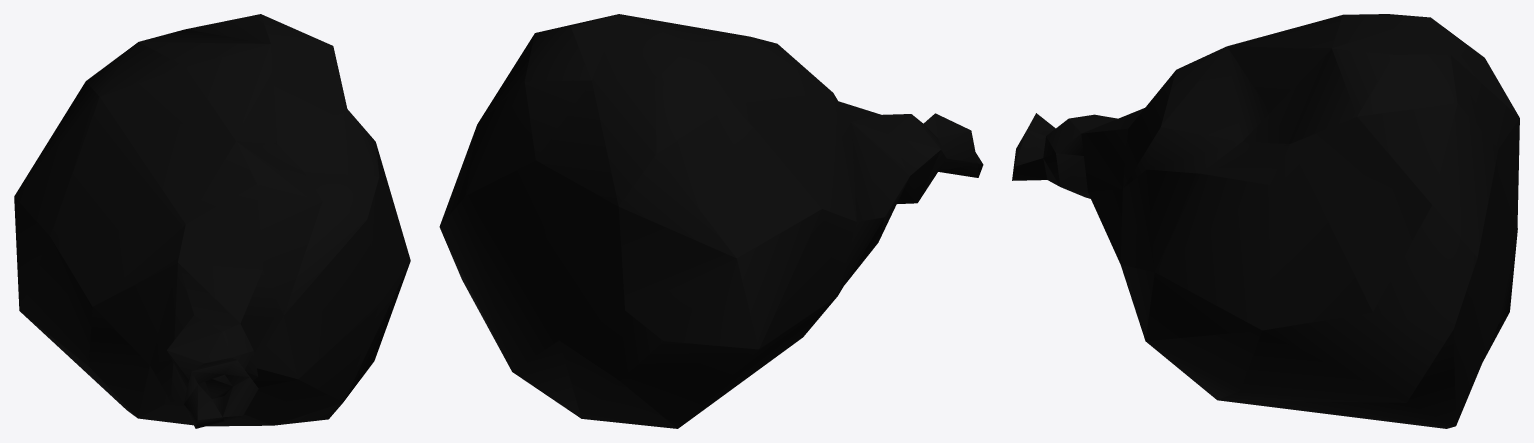
The model's file is trash.obj.
3 views of the same model, side by side, from view 1: azimuth 30°, elevation 25°; view 2: azimuth 150°, elevation 25°; view 3: azimuth 270°, elevation 25° (orthographic). The views are drawn at different scales.
Visible parts, largest first — view 1: 000_Buffer_Layer; view 2: 000_Buffer_Layer; view 3: 000_Buffer_Layer.
Part boxes in pixels (x1,y1,x2,y2): 000_Buffer_Layer: [14, 14, 410, 428]; 000_Buffer_Layer: [439, 14, 983, 428]; 000_Buffer_Layer: [1012, 14, 1519, 428].
Size of the model in its own units: 83.02 by 84.1 by 98.66.
Materials: 1 (1 with a texture image).
